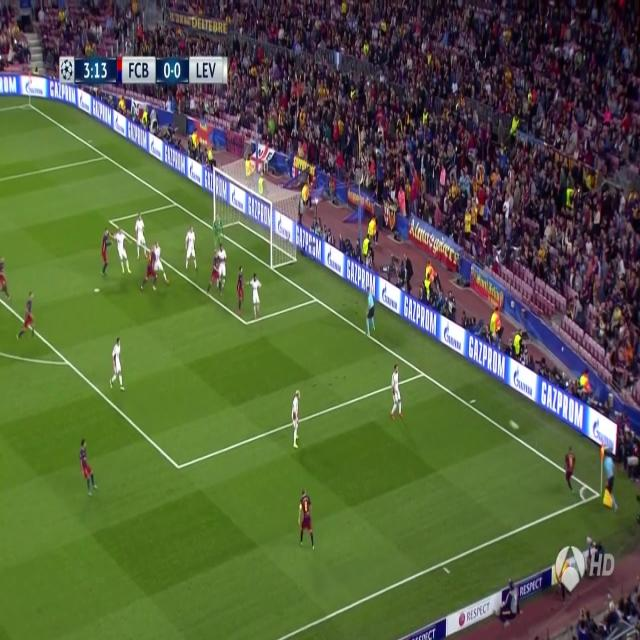Ball: (508, 414, 521, 436)
Goalkeeper: (210, 208, 224, 248)
Player: (78, 437, 100, 496), (15, 288, 37, 346), (108, 228, 134, 275), (297, 489, 315, 551), (108, 337, 126, 395), (132, 212, 150, 264), (388, 363, 404, 421), (205, 247, 222, 298), (151, 236, 169, 284), (183, 224, 199, 275), (291, 389, 304, 451), (248, 272, 264, 319), (234, 263, 248, 316), (563, 446, 578, 495), (139, 250, 156, 293), (101, 224, 114, 278), (217, 242, 229, 296), (0, 253, 12, 302)
Referee: (602, 451, 619, 511), (362, 284, 375, 342)
